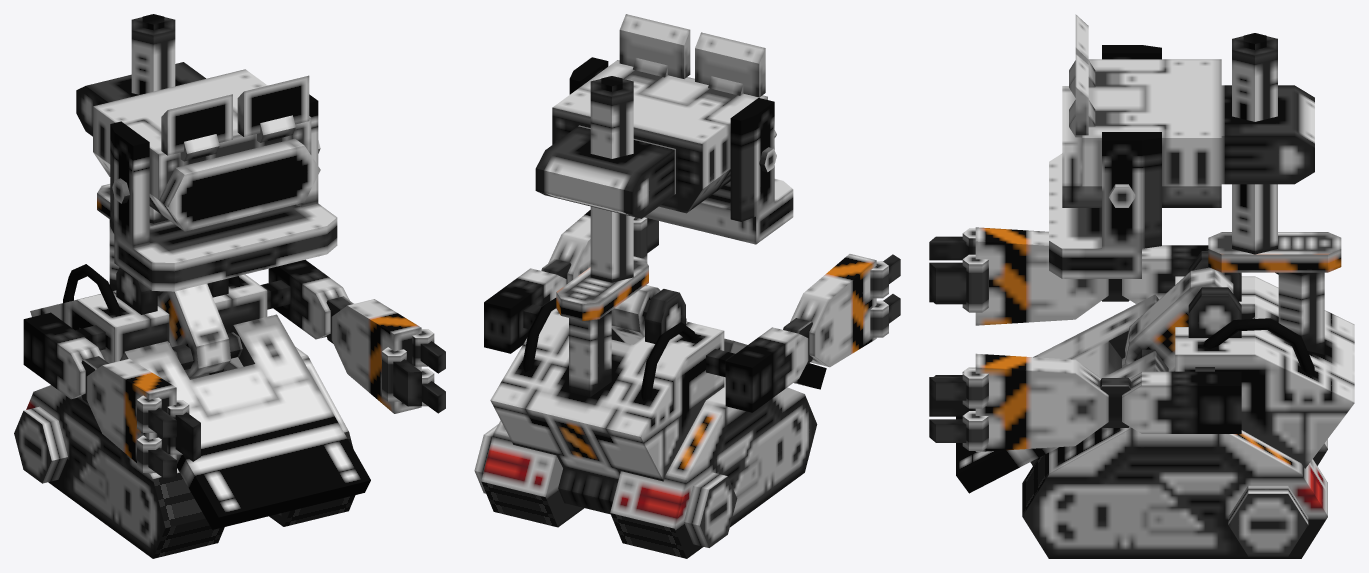
The model's file is Robot.fbx.
3 views of the same model, side by side, from view 1: azimuth 30°, elevation 25°; view 2: azimuth 150°, elevation 25°; view 3: azimuth 270°, elevation 25° (orthographic). The views are drawn at different scales.
Parts seen in each view (by area): view 1: FrontFlap, Body, Head, Jaw, Hand_L, Hand_R, Arm_R, Neck, Treads, Arm_L, Eyebrow_L, Eyebrow_R; view 2: Body, Head, Neck, Jaw, Hand_R, Arm_R, Arm_L, Treads, Eyebrow_L, Eyebrow_R, Hand_L, FrontFlap; view 3: Body, Head, Neck, Hand_L, Jaw, Hand_R, Arm_L, FrontFlap, Arm_R, Eyebrow_L, Treads, Eyebrow_R.
Part boxes in pixels (x1,y1,x2,y2): FrontFlap: (120,314,370,529); Body: (14,264,348,558); Head: (76,62,320,231); Jaw: (110,94,337,291); Hand_L: (331,299,445,413); Hand_R: (86,358,200,477); Arm_R: (23,312,108,403); Neck: (97,14,175,290); Treads: (153,431,355,558); Arm_L: (260,259,353,343); Eyebrow_L: (237,75,309,136); Eyebrow_R: (161,94,232,155); Body: (474,285,817,558); Head: (535,58,776,218); Neck: (556,76,648,397); Jaw: (569,57,793,244); Hand_R: (790,254,900,367); Arm_R: (706,318,812,412); Arm_L: (484,259,571,353); Treads: (481,481,686,558); Eyebrow_L: (619,14,690,78); Eyebrow_R: (695,32,765,97); Hand_L: (548,210,658,283); FrontFlap: (724,338,826,389); Body: (1022,251,1354,558); Head: (1062,59,1314,207); Neck: (1208,33,1341,354); Hand_L: (929,353,1108,451); Jaw: (1049,45,1161,278); Hand_R: (929,227,1108,325); Arm_L: (1100,367,1241,433); FrontFlap: (956,294,1168,493); Arm_R: (1102,245,1208,303); Eyebrow_L: (1075,54,1088,135); Treads: (1022,452,1048,516); Eyebrow_R: (1075,14,1088,64).
Bounding box in the file's own units: 13.37 × 19.5 × 16.
